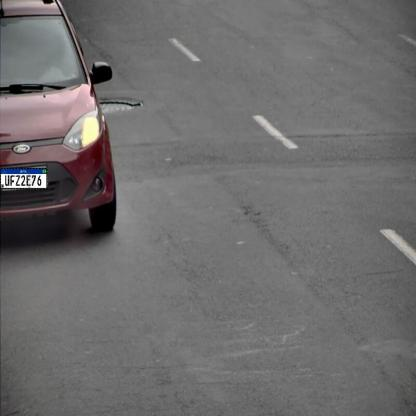PlacaM: (0, 167, 47, 189)
